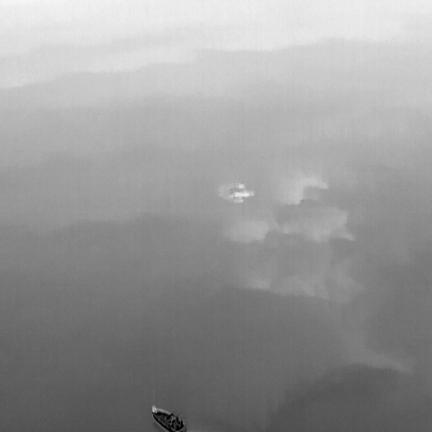flukeprints: (230, 190, 254, 199), (238, 183, 245, 188)
